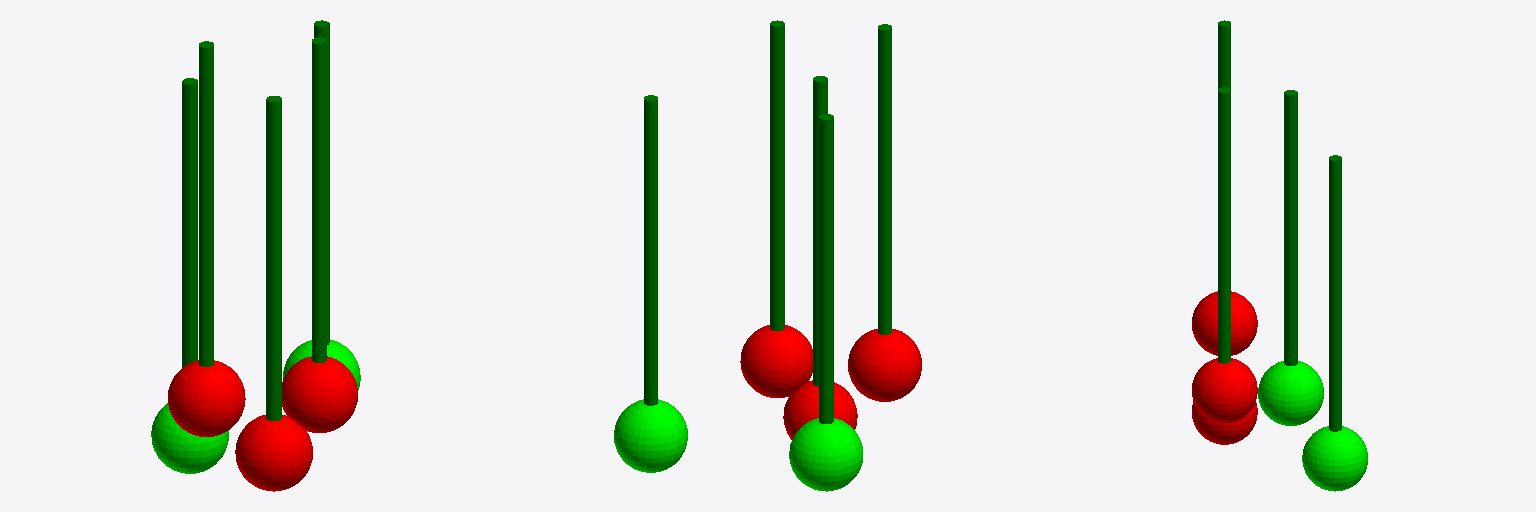
The robot description file, URDF, robot "straw_cluster1":
<?xml version="1.0" ?>
<!-- =================================================================================== -->
<!-- |    This document was autogenerated by xacro from cluster1_extras.xacro          | -->
<!-- |    EDITING THIS FILE BY HAND IS NOT RECOMMENDED                                 | -->
<!-- =================================================================================== -->
<robot name="straw_cluster1" xmlns:xacro="http://www.ros.org/wiki/xacro">
  <link name="world"/>
  <!-- #################################################################################################################################### -->
  <!-- cluster21-->
  <link name="/yball_stem11">
    <gravity>1</gravity>
    <inertial>
      <origin rpy="0 0 0" xyz="0 0 0"/>
      <mass value=".00001"/>
      <inertia ixx="0.00001" ixy="0.0" ixz="0.0" iyy="0.00001" iyz="0.0" izz="0.00001"/>
    </inertial>
    <visual>
      <geometry>
        <sphere radius=".00001"/>
      </geometry>
    </visual>
    <collision>
      <geometry>
        <sphere radius=".00001"/>
      </geometry>
    </collision>
  </link>
  <gazebo reference="/yball_stem11">
    <material>Gazebo/Green</material>
  </gazebo>
  <joint name="/stem11y" type="revolute">
    <parent link="world"/>
    <child link="/yball_stem11"/>
    <origin rpy="0 0 0" xyz="0.45 -0.95 1.19"/>
    <!-- <origin xyz="0.15 0.06 1.19" rpy="0 0 0"/> in case of reference /base_link -->
    <axis xyz="0 1 0"/>
    <dynamics damping="0.0001" friction="0.0002"/>
    <limit effort="1" lower="-3.14159265359" upper="3.14159265359" velocity="0.1"/>
  </joint>
  <link name="/xball_stem11">
    <gravity>1</gravity>
    <inertial>
      <origin rpy="0 0 0" xyz="0 0 0"/>
      <mass value=".00001"/>
      <inertia ixx="0.0000004" ixy="0.0" ixz="0.0" iyy="0.0000004" iyz="0.0" izz="0.0000004"/>
    </inertial>
    <visual>
      <geometry>
        <sphere radius=".00001"/>
      </geometry>
    </visual>
    <collision>
      <geometry>
        <sphere radius=".00001"/>
      </geometry>
    </collision>
  </link>
  <gazebo reference="/xball_stem11">
    <material>Gazebo/Green</material>
  </gazebo>
  <joint name="/stem11x" type="revolute">
    <parent link="/yball_stem11"/>
    <child link="/xball_stem11"/>
    <origin rpy="0 0 0" xyz="0 0 0"/>
    <axis xyz="1 0 0"/>
    <dynamics damping="0.0001" friction="0.0002"/>
    <limit effort="1" lower="-3.14159265359" upper="3.14159265359" velocity="0.1"/>
  </joint>
  <!-- Define stem of straw11 -->
  <link name="/stem11">
    <gravity>1</gravity>
    <inertial>
      <origin rpy="0 0 0" xyz="0 0 0"/>
      <mass value="0.001"/>
      <inertia ixx="0.0000000005" ixy="0.0" ixz="0.0" iyy="0.0000000005" iyz="0.0" izz="0.0000000005"/>
    </inertial>
    <collision>
      <geometry>
        <cylinder length="0.15" radius="0.003"/>
      </geometry>
      <material name="green">
        <color rgba="0 0.501960784314 0 1"/>
      </material>
      <origin rpy="0 0 0" xyz="0 0 -0.075"/>
    </collision>
    <visual>
      <geometry>
        <cylinder length="0.15" radius="0.003"/>
      </geometry>
      <material name="green">
        <color rgba="0 0.501960784314 0 1"/>
      </material>
      <origin rpy="0 0 0" xyz="0 0 -0.075"/>
    </visual>
  </link>
  <gazebo reference="/stem11">
    <mu1>0.01</mu1>
    <mu2>0.01</mu2>
    <selfCollide>true</selfCollide>
    <maxContacts>2</maxContacts>
    <minDepth>0</minDepth>
    <maxVel>0.01</maxVel>
    <kp value="1"/>
    <kd value="0.1"/>
    <material>Gazebo/Green</material>
  </gazebo>
  <joint name="/xball_stem11" type="fixed">
    <parent link="/xball_stem11"/>
    <child link="/stem11"/>
    <origin rpy="0 0 0" xyz="0 0 0"/>
  </joint>
  <!-- Define straw11 -->
  <link name="/straw11">
    <gravity>1</gravity>
    <inertial>
      <origin rpy="0 0 0" xyz="0 0 0"/>
      <mass value="0.002"/>
      <inertia ixx="0.00000018" ixy="0.0" ixz="0.0" iyy="0.00000018" iyz="0.0" izz="0.00000018"/>
    </inertial>
    <collision>
      <geometry>
        <sphere radius="0.015"/>
      </geometry>
    </collision>
    <visual>
      <geometry>
        <sphere radius="0.015"/>
      </geometry>
      <material name="Red">
        <color rgba="1 0 0 1"/>
      </material>
    </visual>
  </link>
  <gazebo reference="/straw11">
    <mu1>0.01</mu1>
    <mu2>0.01</mu2>
    <selfCollide>true</selfCollide>
    <maxContacts>2</maxContacts>
    <minDepth>0</minDepth>
    <maxVel>0.01</maxVel>
    <kp value="1"/>
    <kd value="0.1"/>
    <material>Gazebo/Red</material>
  </gazebo>
  <joint name="/straw11_stem11" type="revolute">
    <parent link="/stem11"/>
    <child link="/straw11"/>
    <origin rpy="0 0 0" xyz="0 0 -0.15"/>
    <axis xyz="0 1 0"/>
    <dynamics damping="0.0000001" friction="0.0000002"/>
    <limit effort="0.01" lower="-3.14159265359" upper="3.14159265359" velocity="0.1"/>
  </joint>
  <!-- #################################################################################################################################### -->
  <!-- cluster22-->
  <link name="/yball_stem12">
    <gravity>1</gravity>
    <inertial>
      <origin rpy="0 0 0" xyz="0 0 0"/>
      <mass value=".00001"/>
      <inertia ixx="0.0000004" ixy="0.0" ixz="0.0" iyy="0.0000004" iyz="0.0" izz="0.0000004"/>
    </inertial>
    <visual>
      <geometry>
        <sphere radius=".00001"/>
      </geometry>
    </visual>
    <collision>
      <geometry>
        <sphere radius=".00001"/>
      </geometry>
    </collision>
  </link>
  <gazebo reference="/yball_stem12">
    <material>Gazebo/Green</material>
  </gazebo>
  <joint name="/stem12y" type="revolute">
    <parent link="world"/>
    <child link="/yball_stem12"/>
    <origin rpy="0 0 0" xyz="0.42 -0.95 1.22"/>
    <!-- <origin xyz="0.12 0.06 1.19" rpy="0 0 0"/> in case of reference /base_link -->
    <axis xyz="0 1 0"/>
    <dynamics damping="0.0001" friction="0.0002"/>
    <limit effort="1" lower="-3.14159265359" upper="3.14159265359" velocity="0.1"/>
  </joint>
  <link name="/xball_stem12">
    <gravity>1</gravity>
    <inertial>
      <origin rpy="0 0 0" xyz="0 0 0"/>
      <mass value=".00001"/>
      <inertia ixx="0.0000004" ixy="0.0" ixz="0.0" iyy="0.0000004" iyz="0.0" izz="0.0000004"/>
    </inertial>
    <visual>
      <geometry>
        <sphere radius=".00001"/>
      </geometry>
    </visual>
    <collision>
      <geometry>
        <sphere radius=".00001"/>
      </geometry>
    </collision>
  </link>
  <gazebo reference="/xball_stem12">
    <material>Gazebo/Green</material>
  </gazebo>
  <joint name="/stem12x" type="revolute">
    <parent link="/yball_stem12"/>
    <child link="/xball_stem12"/>
    <origin rpy="0 0 0" xyz="0 0 0"/>
    <axis xyz="1 0 0"/>
    <dynamics damping="0.0001" friction="0.0002"/>
    <limit effort="1" lower="-3.14159265359" upper="3.14159265359" velocity="0.1"/>
  </joint>
  <!-- Define stem of straw5 -->
  <link name="/stem12">
    <gravity>1</gravity>
    <inertial>
      <origin rpy="0 0 0" xyz="0 0 0"/>
      <mass value="0.001"/>
      <inertia ixx="0.0000000005" ixy="0.0" ixz="0.0" iyy="0.0000000005" iyz="0.0" izz="0.0000000005"/>
    </inertial>
    <collision>
      <geometry>
        <cylinder length="0.15" radius="0.003"/>
      </geometry>
      <material name="green">
        <color rgba="0 0.501960784314 0 1"/>
      </material>
      <origin rpy="0 0 0" xyz="0 0 -0.075"/>
    </collision>
    <visual>
      <geometry>
        <cylinder length="0.15" radius="0.003"/>
      </geometry>
      <material name="green">
        <color rgba="0 0.501960784314 0 1"/>
      </material>
      <origin rpy="0 0 0" xyz="0 0 -0.075"/>
    </visual>
  </link>
  <gazebo reference="/stem12">
    <mu1>0.01</mu1>
    <mu2>0.01</mu2>
    <selfCollide>true</selfCollide>
    <maxContacts>2</maxContacts>
    <minDepth>0</minDepth>
    <maxVel>0.01</maxVel>
    <kp value="1"/>
    <kd value="0.1"/>
    <material>Gazebo/Green</material>
  </gazebo>
  <joint name="/xball_stem12" type="fixed">
    <parent link="/xball_stem12"/>
    <child link="/stem12"/>
    <origin rpy="0 0 0" xyz="0 0 0"/>
  </joint>
  <!-- Define straw5 -->
  <link name="/straw12">
    <gravity>1</gravity>
    <inertial>
      <origin rpy="0 0 0" xyz="0 0 0"/>
      <mass value="0.002"/>
      <inertia ixx="0.00000018" ixy="0.0" ixz="0.0" iyy="0.00000018" iyz="0.0" izz="0.00000018"/>
    </inertial>
    <collision>
      <geometry>
        <sphere radius="0.015"/>
      </geometry>
    </collision>
    <visual>
      <geometry>
        <sphere radius="0.015"/>
      </geometry>
      <material name="Red">
        <color rgba="1 0 0 1"/>
      </material>
    </visual>
  </link>
  <gazebo reference="/straw12">
    <mu1>0.01</mu1>
    <mu2>0.01</mu2>
    <selfCollide>true</selfCollide>
    <maxContacts>2</maxContacts>
    <minDepth>0</minDepth>
    <maxVel>0.01</maxVel>
    <kp value="1"/>
    <kd value="0.1"/>
    <material>Gazebo/Red</material>
  </gazebo>
  <joint name="/straw12_stem12" type="revolute">
    <parent link="/stem12"/>
    <child link="/straw12"/>
    <origin rpy="0 0 0" xyz="0 0 -0.15"/>
    <axis xyz="0 1 0"/>
    <dynamics damping="0.0000001" friction="0.0000002"/>
    <limit effort="0.01" lower="-3.14159265359" upper="3.14159265359" velocity="0.1"/>
  </joint>
  <!-- #################################################################################################################################### -->
  <!-- cluster23-->
  <link name="/yball_stem13">
    <gravity>1</gravity>
    <inertial>
      <origin rpy="0 0 0" xyz="0 0 0"/>
      <mass value=".00001"/>
      <inertia ixx="0.0000004" ixy="0.0" ixz="0.0" iyy="0.0000004" iyz="0.0" izz="0.0000004"/>
    </inertial>
    <visual>
      <geometry>
        <sphere radius=".00001"/>
      </geometry>
    </visual>
    <collision>
      <geometry>
        <sphere radius=".00001"/>
      </geometry>
    </collision>
  </link>
  <gazebo reference="/yball_stem13">
    <material>Gazebo/Green</material>
  </gazebo>
  <joint name="/stem13y" type="revolute">
    <parent link="world"/>
    <child link="/yball_stem13"/>
    <origin rpy="0 0 0" xyz="0.47 -0.95 1.21"/>
    <!-- <origin xyz="0.18 0.06 1.19" rpy="0 0 0"/> in case of reference /base_link -->
    <axis xyz="0 1 0"/>
    <dynamics damping="0.0001" friction="0.0002"/>
    <limit effort="1" lower="-3.14159265359" upper="3.14159265359" velocity="0.1"/>
  </joint>
  <link name="/xball_stem13">
    <gravity>1</gravity>
    <inertial>
      <origin rpy="0 0 0" xyz="0 0 0"/>
      <mass value=".00001"/>
      <inertia ixx="0.0000004" ixy="0.0" ixz="0.0" iyy="0.0000004" iyz="0.0" izz="0.0000004"/>
    </inertial>
    <visual>
      <geometry>
        <sphere radius=".00001"/>
      </geometry>
    </visual>
    <collision>
      <geometry>
        <sphere radius=".00001"/>
      </geometry>
    </collision>
  </link>
  <gazebo reference="/xball_stem6">
    <material>Gazebo/Green</material>
  </gazebo>
  <joint name="/stem13x" type="revolute">
    <parent link="/yball_stem13"/>
    <child link="/xball_stem13"/>
    <origin rpy="0 0 0" xyz="0 0 0"/>
    <axis xyz="1 0 0"/>
    <dynamics damping="0.0001" friction="0.0002"/>
    <limit effort="1" lower="-3.14159265359" upper="3.14159265359" velocity="0.1"/>
  </joint>
  <!-- Define stem of straw3 -->
  <link name="/stem13">
    <gravity>1</gravity>
    <inertial>
      <origin rpy="0 0 0" xyz="0 0 0"/>
      <mass value="0.0001"/>
      <inertia ixx="0.0000000005" ixy="0.0" ixz="0.0" iyy="0.0000000005" iyz="0.0" izz="0.0000000005"/>
    </inertial>
    <collision>
      <geometry>
        <cylinder length="0.15" radius="0.003"/>
      </geometry>
      <material name="green">
        <color rgba="0 0.501960784314 0 1"/>
      </material>
      <origin rpy="0 0 0" xyz="0 0 -0.075"/>
    </collision>
    <visual>
      <geometry>
        <cylinder length="0.15" radius="0.003"/>
      </geometry>
      <material name="green">
        <color rgba="0 0.501960784314 0 1"/>
      </material>
      <origin rpy="0 0 0" xyz="0 0 -0.075"/>
    </visual>
  </link>
  <gazebo reference="/stem13">
    <mu1>0.01</mu1>
    <mu2>0.01</mu2>
    <selfCollide>true</selfCollide>
    <maxContacts>2</maxContacts>
    <minDepth>0</minDepth>
    <maxVel>0.01</maxVel>
    <kp value="1"/>
    <kd value="0.1"/>
    <material>Gazebo/Green</material>
  </gazebo>
  <joint name="/xball_stem13" type="fixed">
    <parent link="/xball_stem13"/>
    <child link="/stem13"/>
    <origin rpy="0 0 0" xyz="0 0 0"/>
  </joint>
  <!-- Define straw2 -->
  <link name="/straw13">
    <gravity>1</gravity>
    <inertial>
      <origin rpy="0 0 0" xyz="0 0 0"/>
      <mass value="0.002"/>
      <inertia ixx="0.00000018" ixy="0.0" ixz="0.0" iyy="0.00000018" iyz="0.0" izz="0.00000018"/>
    </inertial>
    <collision>
      <geometry>
        <sphere radius="0.015"/>
      </geometry>
    </collision>
    <visual>
      <geometry>
        <sphere radius="0.015"/>
      </geometry>
      <material name="Red">
        <color rgba="1 0 0 1"/>
      </material>
    </visual>
  </link>
  <gazebo reference="/straw13">
    <mu1>0.01</mu1>
    <mu2>0.01</mu2>
    <selfCollide>true</selfCollide>
    <maxContacts>2</maxContacts>
    <minDepth>0</minDepth>
    <maxVel>0.01</maxVel>
    <kp value="1"/>
    <kd value="0.1"/>
    <material>Gazebo/Red</material>
  </gazebo>
  <joint name="/straw13_stem13" type="revolute">
    <parent link="/stem13"/>
    <child link="/straw13"/>
    <origin rpy="0 0 0" xyz="0 0 -0.15"/>
    <axis xyz="0 1 0"/>
    <dynamics damping="0.0000001" friction="0.0000002"/>
    <limit effort="0.01" lower="-3.14159265359" upper="3.14159265359" velocity="0.1"/>
  </joint>
  <!-- #################################################################################################################################### -->
  <!-- cluster24-->
  <link name="/yball_stem14">
    <gravity>1</gravity>
    <inertial>
      <origin rpy="0 0 0" xyz="0 0 0"/>
      <mass value=".00001"/>
      <inertia ixx="0.0000004" ixy="0.0" ixz="0.0" iyy="0.0000004" iyz="0.0" izz="0.0000004"/>
    </inertial>
    <visual>
      <geometry>
        <sphere radius=".00001"/>
      </geometry>
    </visual>
    <collision>
      <geometry>
        <sphere radius=".00001"/>
      </geometry>
    </collision>
  </link>
  <gazebo reference="/yball_stem14">
    <material>Gazebo/Green</material>
  </gazebo>
  <joint name="/stem14y" type="revolute">
    <parent link="world"/>
    <child link="/yball_stem14"/>
    <origin rpy="0 0 0" xyz="0.5 -0.9 1.19"/>
    <!-- <origin xyz="0.18 0.06 1.19" rpy="0 0 0"/> in case of reference /base_link -->
    <axis xyz="0 1 0"/>
    <dynamics damping="0.0001" friction="0.0002"/>
    <limit effort="1" lower="-3.14159265359" upper="3.14159265359" velocity="0.1"/>
  </joint>
  <link name="/xball_stem14">
    <gravity>1</gravity>
    <inertial>
      <origin rpy="0 0 0" xyz="0 0 0"/>
      <mass value=".00001"/>
      <inertia ixx="0.0000004" ixy="0.0" ixz="0.0" iyy="0.0000004" iyz="0.0" izz="0.0000004"/>
    </inertial>
    <visual>
      <geometry>
        <sphere radius=".00001"/>
      </geometry>
    </visual>
    <collision>
      <geometry>
        <sphere radius=".00001"/>
      </geometry>
    </collision>
  </link>
  <gazebo reference="/xball_stem14">
    <material>Gazebo/Green</material>
  </gazebo>
  <joint name="/stem14x" type="revolute">
    <parent link="/yball_stem14"/>
    <child link="/xball_stem14"/>
    <origin rpy="0 0 0" xyz="0 0 0"/>
    <axis xyz="1 0 0"/>
    <dynamics damping="0.0001" friction="0.0002"/>
    <limit effort="1" lower="-3.14159265359" upper="3.14159265359" velocity="0.1"/>
  </joint>
  <!-- Define stem of straw3 -->
  <link name="/stem14">
    <gravity>1</gravity>
    <inertial>
      <origin rpy="0 0 0" xyz="0 0 0"/>
      <mass value="0.0001"/>
      <inertia ixx="0.0000000005" ixy="0.0" ixz="0.0" iyy="0.0000000005" iyz="0.0" izz="0.0000000005"/>
    </inertial>
    <collision>
      <geometry>
        <cylinder length="0.15" radius="0.003"/>
      </geometry>
      <material name="green">
        <color rgba="0 0.501960784314 0 1"/>
      </material>
      <origin rpy="0 0 0" xyz="0 0 -0.075"/>
    </collision>
    <visual>
      <geometry>
        <cylinder length="0.15" radius="0.003"/>
      </geometry>
      <material name="green">
        <color rgba="0 0.501960784314 0 1"/>
      </material>
      <origin rpy="0 0 0" xyz="0 0 -0.075"/>
    </visual>
  </link>
  <gazebo reference="/stem14">
    <mu1>0.01</mu1>
    <mu2>0.01</mu2>
    <selfCollide>true</selfCollide>
    <maxContacts>2</maxContacts>
    <minDepth>0</minDepth>
    <maxVel>0.01</maxVel>
    <kp value="1"/>
    <kd value="0.1"/>
    <material>Gazebo/Green</material>
  </gazebo>
  <joint name="/xball_stem14" type="fixed">
    <parent link="/xball_stem14"/>
    <child link="/stem14"/>
    <origin rpy="0 0 0" xyz="0 0 0"/>
  </joint>
  <!-- Define straw2 -->
  <link name="/straw14">
    <gravity>1</gravity>
    <inertial>
      <origin rpy="0 0 0" xyz="0 0 0"/>
      <mass value="0.002"/>
      <inertia ixx="0.00000018" ixy="0.0" ixz="0.0" iyy="0.00000018" iyz="0.0" izz="0.00000018"/>
    </inertial>
    <collision>
      <geometry>
        <sphere radius="0.015"/>
      </geometry>
    </collision>
    <visual>
      <geometry>
        <sphere radius="0.015"/>
      </geometry>
      <material name="Green">
        <color rgba="0 1 0 1"/>
      </material>
    </visual>
  </link>
  <gazebo reference="/straw14">
    <mu1>0.01</mu1>
    <mu2>0.01</mu2>
    <selfCollide>true</selfCollide>
    <maxContacts>2</maxContacts>
    <minDepth>0</minDepth>
    <maxVel>0.01</maxVel>
    <kp value="1"/>
    <kd value="0.1"/>
    <material>Gazebo/Green</material>
  </gazebo>
  <joint name="/straw14_stem14" type="revolute">
    <parent link="/stem14"/>
    <child link="/straw14"/>
    <origin rpy="0 0 0" xyz="0 0 -0.15"/>
    <axis xyz="0 1 0"/>
    <dynamics damping="0.0000001" friction="0.0000002"/>
    <limit effort="0.01" lower="-3.14159265359" upper="3.14159265359" velocity="0.1"/>
  </joint>
  <!-- #################################################################################################################################### -->
  <!-- cluster25-->
  <link name="/yball_stem15">
    <gravity>1</gravity>
    <inertial>
      <origin rpy="0 0 0" xyz="0 0 0"/>
      <mass value=".00001"/>
      <inertia ixx="0.0000004" ixy="0.0" ixz="0.0" iyy="0.0000004" iyz="0.0" izz="0.0000004"/>
    </inertial>
    <visual>
      <geometry>
        <sphere radius=".00001"/>
      </geometry>
    </visual>
    <collision>
      <geometry>
        <sphere radius=".00001"/>
      </geometry>
    </collision>
  </link>
  <gazebo reference="/yball_stem15">
    <material>Gazebo/Green</material>
  </gazebo>
  <joint name="/stem15y" type="revolute">
    <parent link="world"/>
    <child link="/yball_stem15"/>
    <origin rpy="0 0 0" xyz="0.43 -0.92 1.19"/>
    <!-- <origin xyz="0.18 0.06 1.19" rpy="0 0 0"/> in case of reference /base_link -->
    <axis xyz="0 1 0"/>
    <dynamics damping="0.0001" friction="0.0002"/>
    <limit effort="1" lower="-3.14159265359" upper="3.14159265359" velocity="0.1"/>
  </joint>
  <link name="/xball_stem15">
    <gravity>1</gravity>
    <inertial>
      <origin rpy="0 0 0" xyz="0 0 0"/>
      <mass value=".00001"/>
      <inertia ixx="0.0000004" ixy="0.0" ixz="0.0" iyy="0.0000004" iyz="0.0" izz="0.0000004"/>
    </inertial>
    <visual>
      <geometry>
        <sphere radius=".00001"/>
      </geometry>
    </visual>
    <collision>
      <geometry>
        <sphere radius=".00001"/>
      </geometry>
    </collision>
  </link>
  <gazebo reference="/xball_stem15">
    <material>Gazebo/Green</material>
  </gazebo>
  <joint name="/stem6x" type="revolute">
    <parent link="/yball_stem15"/>
    <child link="/xball_stem15"/>
    <origin rpy="0 0 0" xyz="0 0 0"/>
    <axis xyz="1 0 0"/>
    <dynamics damping="0.0001" friction="0.0002"/>
    <limit effort="1" lower="-3.14159265359" upper="3.14159265359" velocity="0.1"/>
  </joint>
  <!-- Define stem of straw3 -->
  <link name="/stem15">
    <gravity>1</gravity>
    <inertial>
      <origin rpy="0 0 0" xyz="0 0 0"/>
      <mass value="0.0001"/>
      <inertia ixx="0.0000000005" ixy="0.0" ixz="0.0" iyy="0.0000000005" iyz="0.0" izz="0.0000000005"/>
    </inertial>
    <collision>
      <geometry>
        <cylinder length="0.15" radius="0.003"/>
      </geometry>
      <material name="green">
        <color rgba="0 0.501960784314 0 1"/>
      </material>
      <origin rpy="0 0 0" xyz="0 0 -0.075"/>
    </collision>
    <visual>
      <geometry>
        <cylinder length="0.15" radius="0.003"/>
      </geometry>
      <material name="green">
        <color rgba="0 0.501960784314 0 1"/>
      </material>
      <origin rpy="0 0 0" xyz="0 0 -0.075"/>
    </visual>
  </link>
  <gazebo reference="/stem15">
    <mu1>0.01</mu1>
    <mu2>0.01</mu2>
    <selfCollide>true</selfCollide>
    <maxContacts>2</maxContacts>
    <minDepth>0</minDepth>
    <maxVel>0.01</maxVel>
    <kp value="1"/>
    <kd value="0.1"/>
    <material>Gazebo/Green</material>
  </gazebo>
  <joint name="/xball_stem15" type="fixed">
    <parent link="/xball_stem15"/>
    <child link="/stem15"/>
    <origin rpy="0 0 0" xyz="0 0 0"/>
  </joint>
  <!-- Define straw2 -->
  <link name="/straw15">
    <gravity>1</gravity>
    <inertial>
      <origin rpy="0 0 0" xyz="0 0 0"/>
      <mass value="0.002"/>
      <inertia ixx="0.00000018" ixy="0.0" ixz="0.0" iyy="0.00000018" iyz="0.0" izz="0.00000018"/>
    </inertial>
    <collision>
      <geometry>
        <sphere radius="0.015"/>
      </geometry>
    </collision>
    <visual>
      <geometry>
        <sphere radius="0.015"/>
      </geometry>
      <material name="green">
        <color rgba="0 1 0 1"/>
      </material>
    </visual>
  </link>
  <gazebo reference="/straw15">
    <mu1>0.01</mu1>
    <mu2>0.01</mu2>
    <selfCollide>true</selfCollide>
    <maxContacts>2</maxContacts>
    <minDepth>0</minDepth>
    <maxVel>0.01</maxVel>
    <kp value="1"/>
    <kd value="0.1"/>
    <material>Gazebo/Green</material>
  </gazebo>
  <joint name="/straw15_stem15" type="revolute">
    <parent link="/stem15"/>
    <child link="/straw15"/>
    <origin rpy="0 0 0" xyz="0 0 -0.15"/>
    <axis xyz="0 1 0"/>
    <dynamics damping="0.0000001" friction="0.0000002"/>
    <limit effort="0.01" lower="-3.14159265359" upper="3.14159265359" velocity="0.1"/>
  </joint>
  <!-- #################################################################################################################################### -->
</robot>

--- Facts derived from the render (not from the file) ---
The picture shows the robot from 3 angles, left to right: view 1: azimuth 30°, elevation 25°; view 2: azimuth 150°, elevation 25°; view 3: azimuth 270°, elevation 25°; orthographic projection.
Robot: straw_cluster1 — 21 links, 20 joints (15 revolute, 5 fixed); root link world; default pose: every joint at zero.
Visible links, largest first — view 1: /stem11, /stem12, /stem13, /straw12, /straw11, /straw13, /stem15, /straw15, /stem14, /straw14; view 2: /stem15, /stem13, /stem12, /stem14, /straw12, /straw14, /straw15, /straw13, /stem11, /straw11; view 3: /stem15, /stem13, /stem14, /straw15, /straw13, /straw14, /straw12, /straw11, /stem12.
Boxes of the visible links, x1,y1,x2,y2 form: /stem11: (266, 96, 281, 420); /stem12: (199, 41, 213, 366); /stem13: (312, 37, 326, 362); /straw12: (168, 360, 245, 436); /straw11: (235, 415, 312, 491); /straw13: (282, 356, 357, 432); /stem15: (182, 78, 197, 367); /straw15: (151, 403, 228, 473); /stem14: (314, 20, 329, 344); /straw14: (283, 340, 360, 389); /stem15: (819, 114, 833, 423); /stem13: (770, 20, 784, 330); /stem12: (878, 24, 891, 334); /stem14: (644, 95, 657, 405); /straw12: (848, 329, 921, 401); /straw14: (614, 399, 687, 472); /straw15: (789, 418, 862, 491); /straw13: (740, 325, 812, 397); /stem11: (813, 76, 827, 386); /straw11: (783, 380, 857, 439); /stem15: (1284, 90, 1297, 365); /stem13: (1218, 87, 1230, 363); /stem14: (1329, 155, 1341, 431); /straw15: (1258, 361, 1323, 425); /straw13: (1192, 358, 1257, 422); /straw14: (1302, 426, 1367, 491); /straw12: (1192, 291, 1257, 355); /straw11: (1192, 401, 1257, 444); /stem12: (1218, 20, 1230, 88).
Bounding box of the posed robot: 0.11 × 0.08 × 0.195 m (x, y, z).
Geometry: primitives only (box / cylinder / sphere), no mesh files.